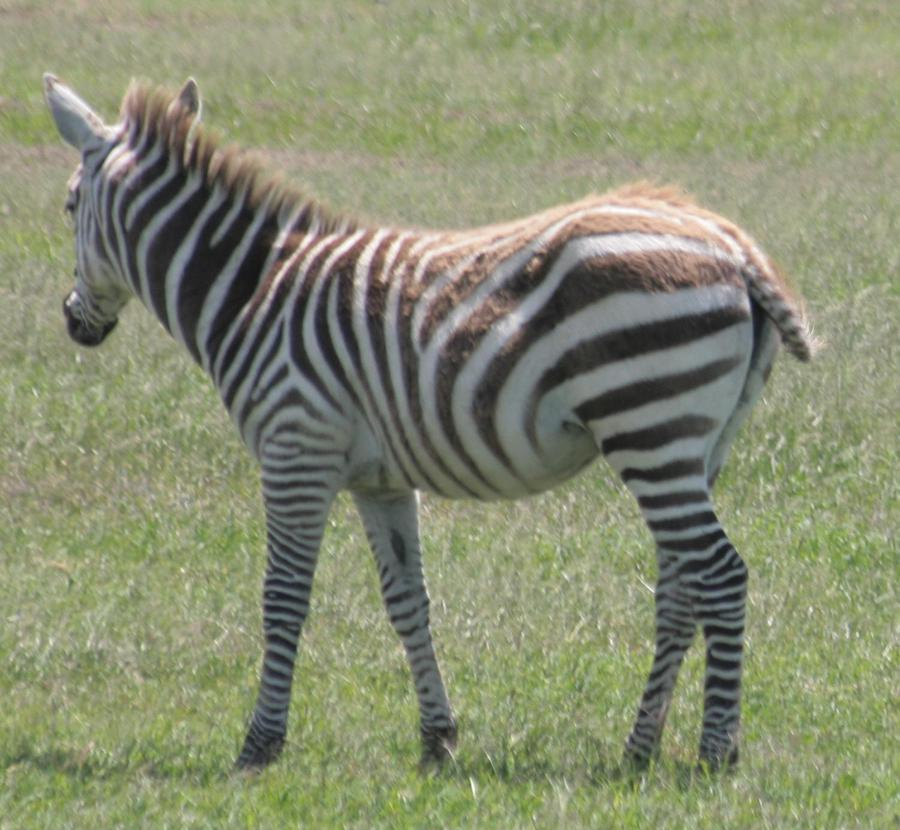zebra_plains: (185, 187, 776, 521)
